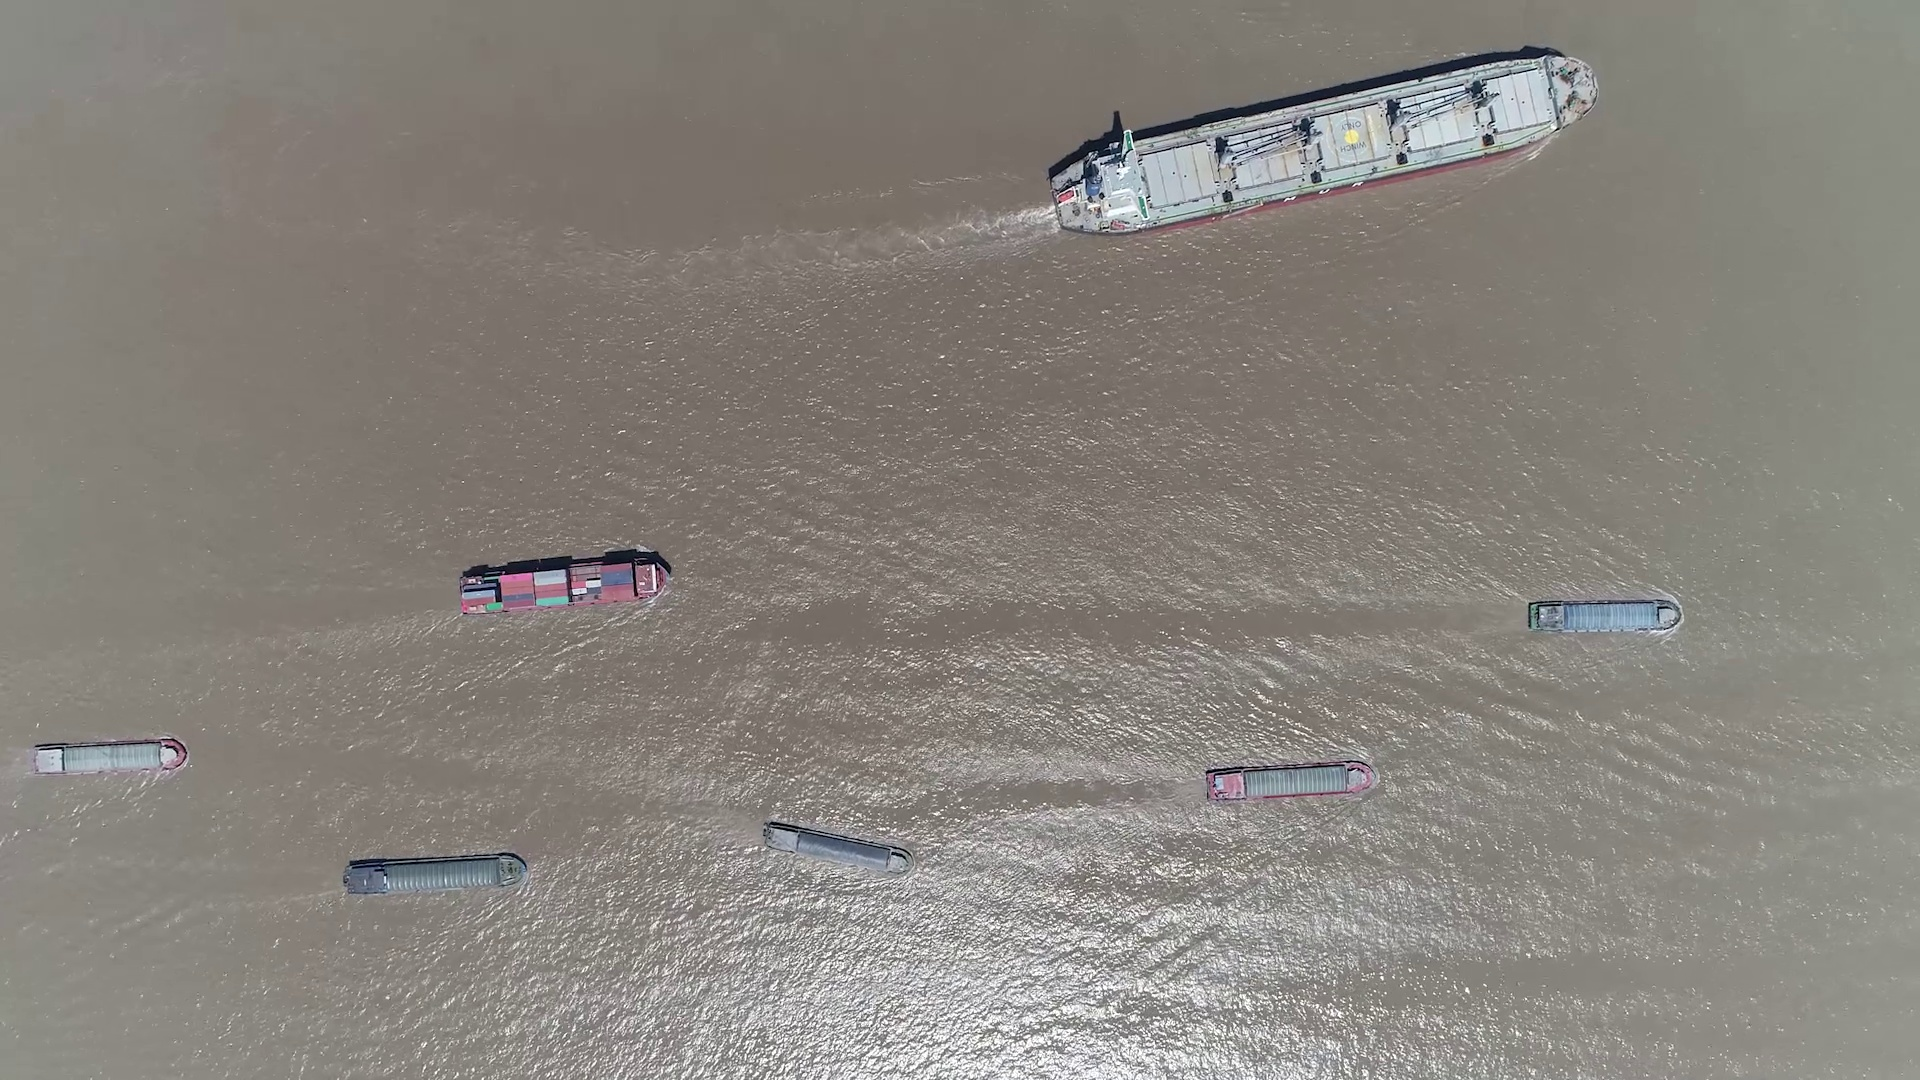ship: (1048, 58, 1597, 233), (459, 556, 671, 616), (344, 852, 527, 895), (760, 822, 909, 873), (1205, 761, 1377, 802), (32, 738, 189, 775), (1528, 597, 1680, 633)
